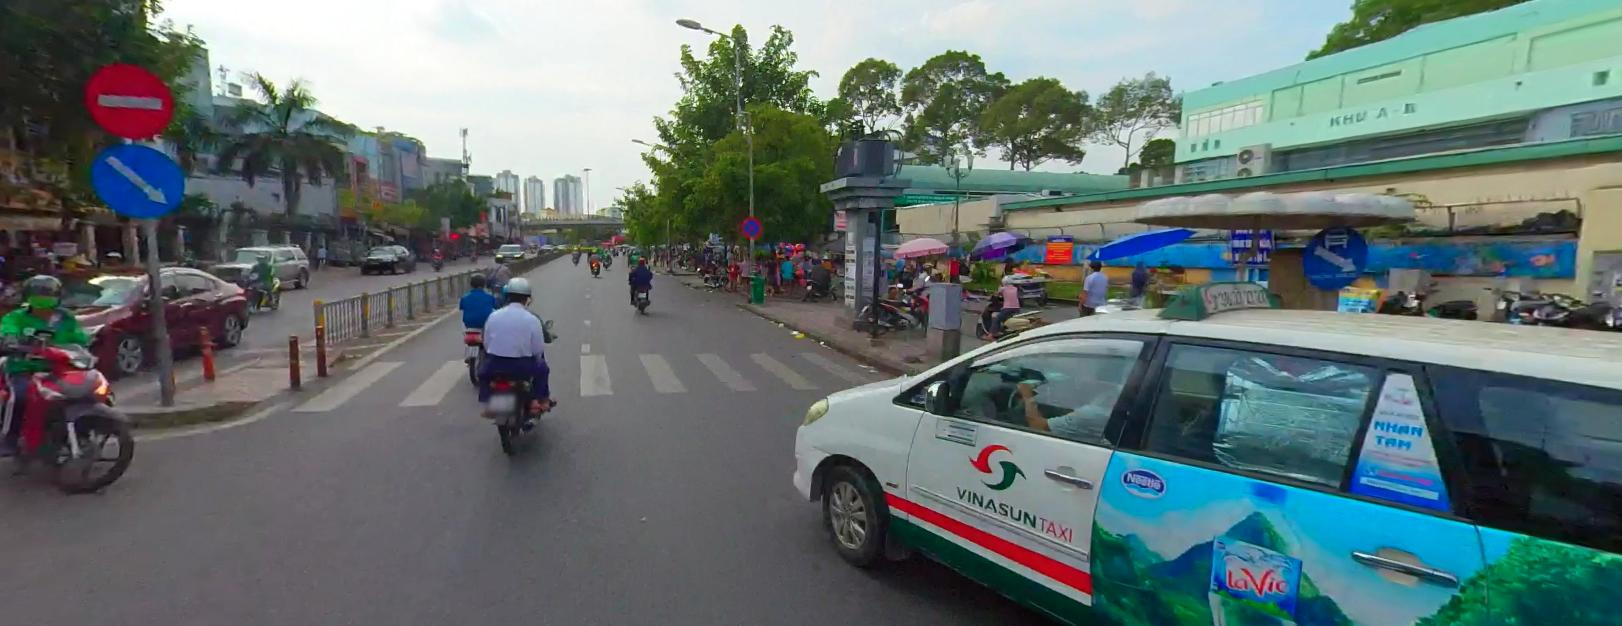Cam dung va do: (740, 216, 761, 237)
Cam nguoc chieu: (87, 60, 172, 136)
Hieu lenh: (90, 141, 184, 213)
